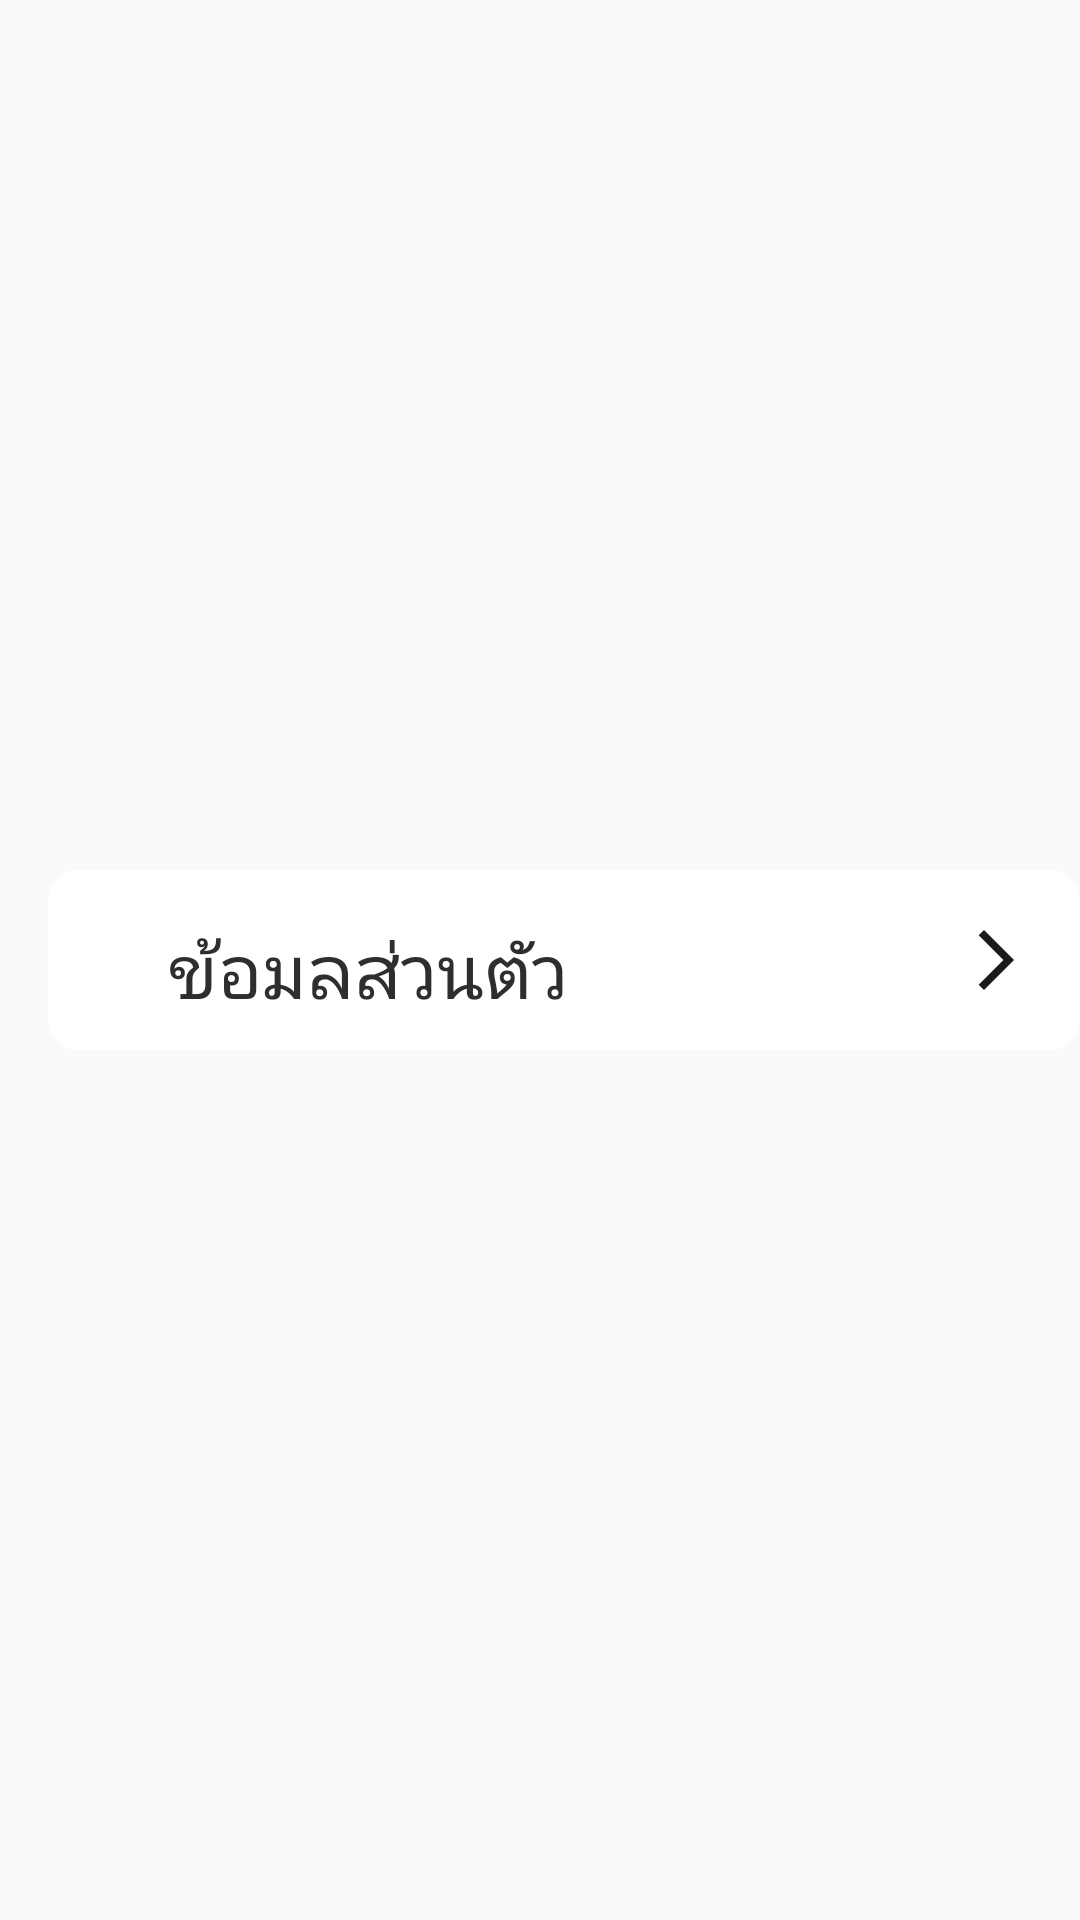

Icon click points for this 1080 × 1920 phone screenshot, format point (x, y):
arrow forward: point (996, 960)
